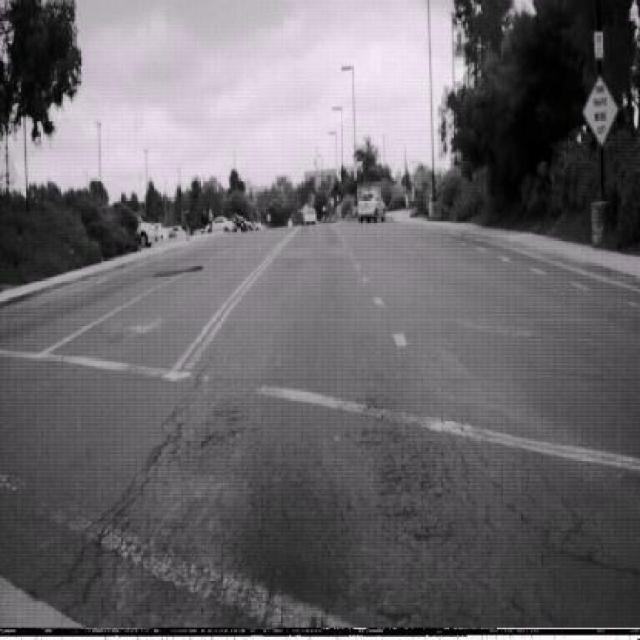thruTrafficMergeLeft: (582, 74, 618, 146)
